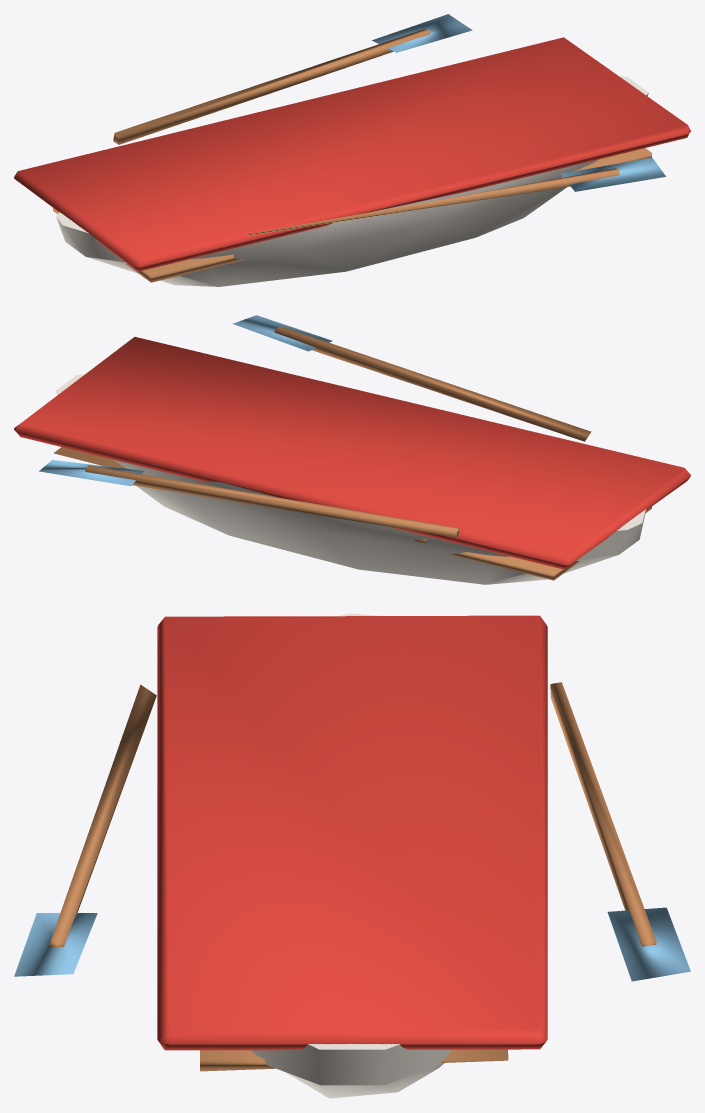
File: rowboat.glb
The picture shows the model from 3 angles, top to bottom: view 1: azimuth 30°, elevation 25°; view 2: azimuth 150°, elevation 25°; view 3: azimuth 270°, elevation 25°; orthographic projection. The views are drawn at different scales.
Visible parts, largest first — view 1: rowboat; view 2: rowboat; view 3: rowboat.
Boxes of the visible parts, x1,y1,x2,y2 form: rowboat: [14, 14, 690, 286]; rowboat: [14, 315, 690, 584]; rowboat: [14, 613, 690, 1098].
Bounding box in the file's own units: 3.31 × 0.5266 × 2.17.
Materials: 1 (1 with a texture image).
